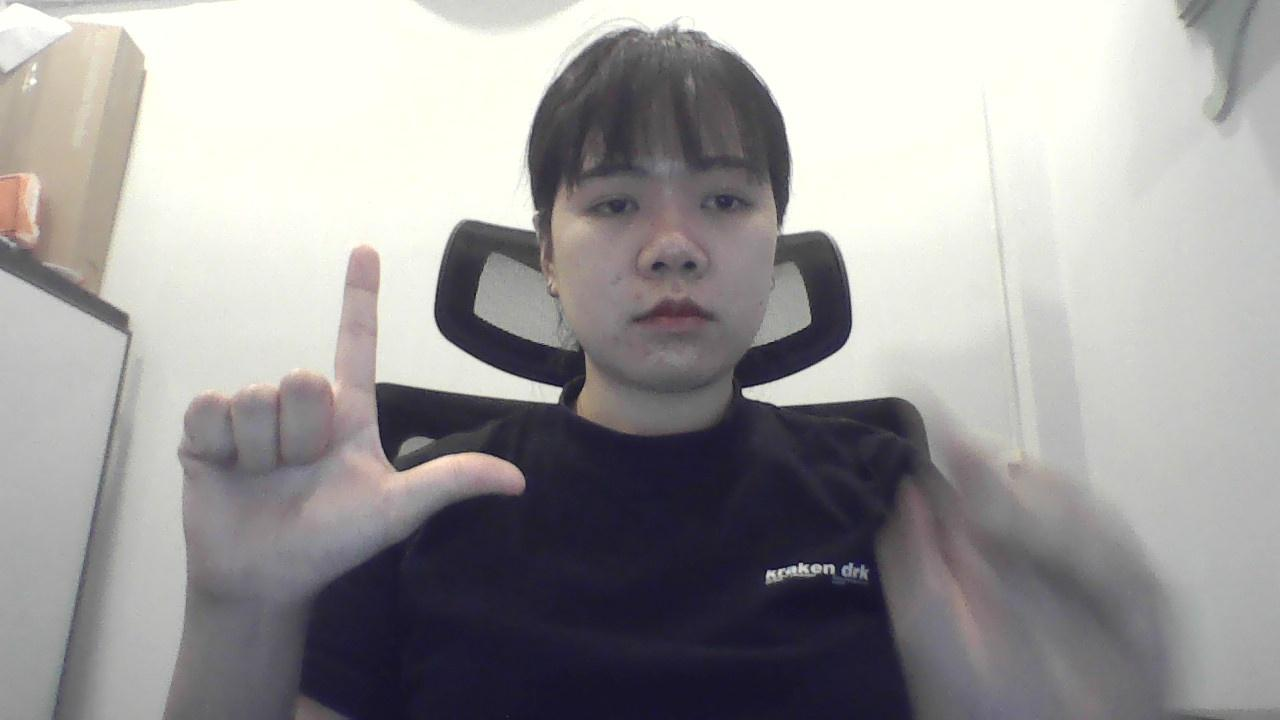L: (174, 226, 532, 636)
